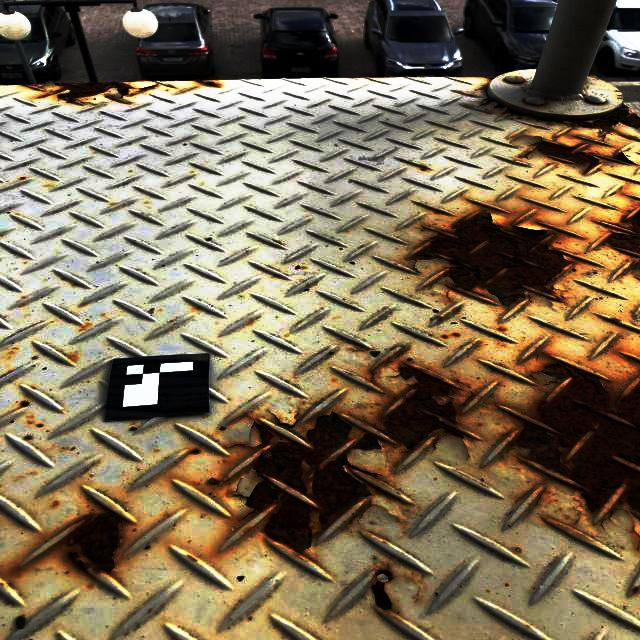Corrosion: (246, 412, 388, 553), (520, 358, 640, 515), (412, 211, 574, 324), (382, 358, 456, 453), (21, 512, 122, 581), (588, 207, 640, 274), (529, 134, 613, 175), (570, 104, 640, 130), (57, 81, 131, 102), (418, 412, 465, 432), (371, 570, 393, 612), (479, 84, 509, 110), (517, 113, 546, 125), (441, 427, 465, 441), (613, 155, 633, 166), (193, 79, 217, 86), (503, 110, 514, 118), (485, 76, 496, 80)
